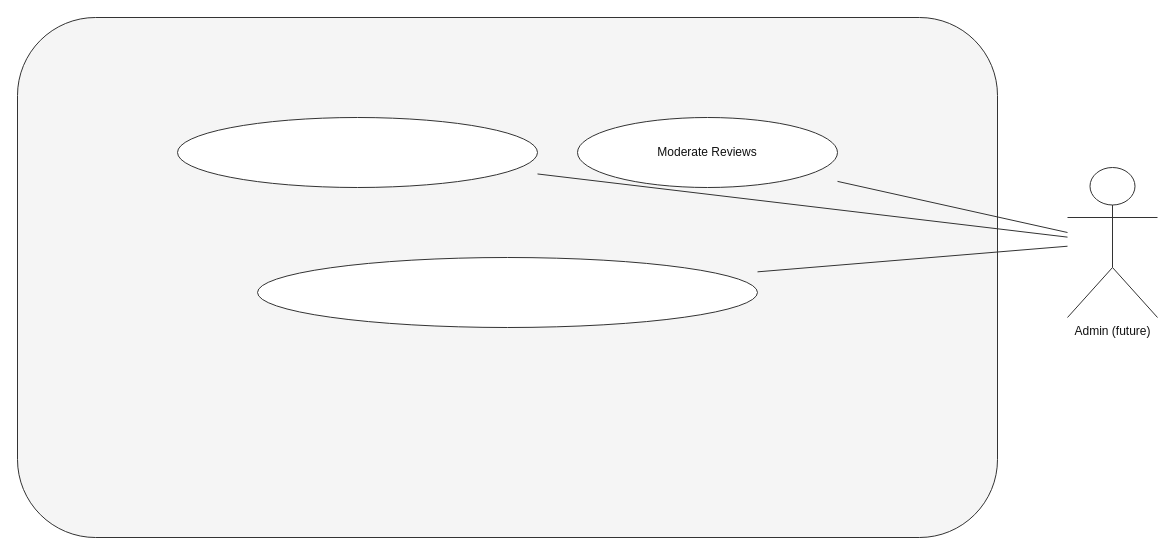
Image size: 1175x555. Some labels were removed from this diagram. Each missing label, with the centre of its shape:
"Manage Destinations / Attractions" belongs at (357,152).
"Manage Notifications / Seasonal Updates" belongs at (507,292).
